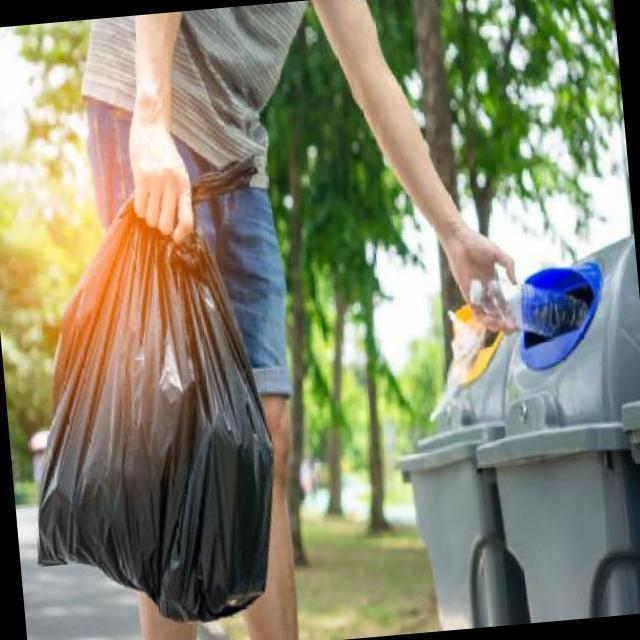Garbage_Bag: (0, 150, 300, 640)
